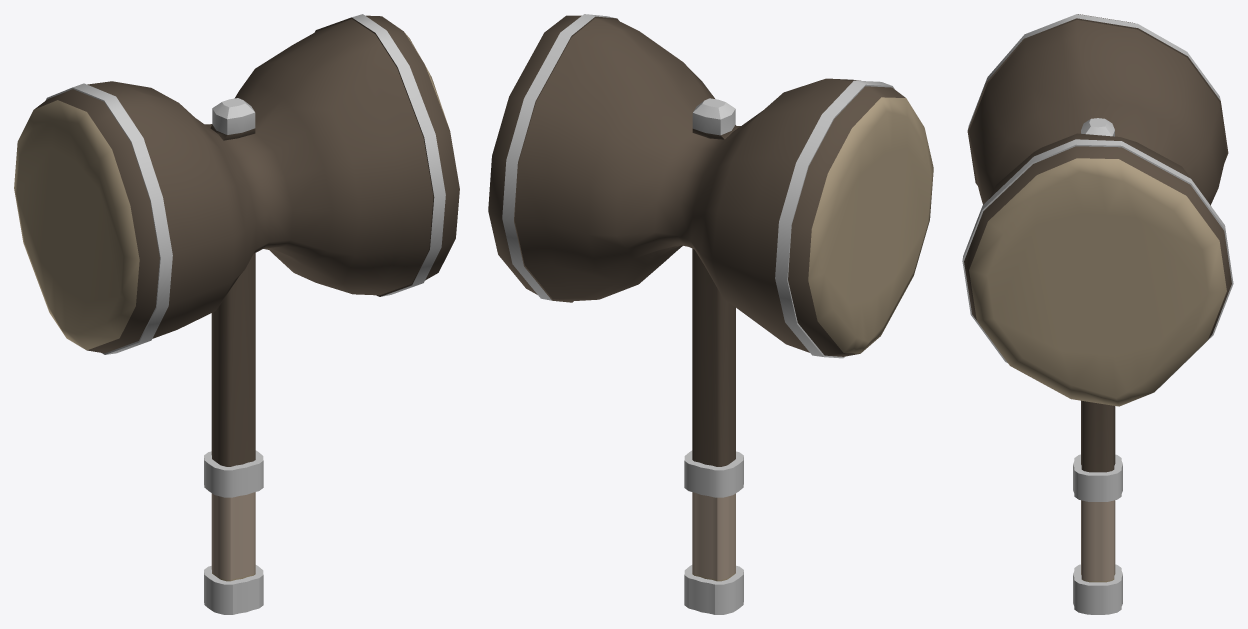
File: Hammer.fbx
3 views of the same model, side by side, from view 1: azimuth 30°, elevation 25°; view 2: azimuth 150°, elevation 25°; view 3: azimuth 270°, elevation 25° (orthographic). The views are drawn at different scales.
Parts seen in each view (by area): view 1: Hammer; view 2: Hammer; view 3: Hammer.
Boxes of the visible parts, box(x1,y1,x2,y2) form: Hammer: box(14, 14, 459, 614); Hammer: box(488, 14, 933, 614); Hammer: box(962, 14, 1233, 614).
Bounding box in the file's own units: 0.00521 × 0.00827 × 0.00385.
